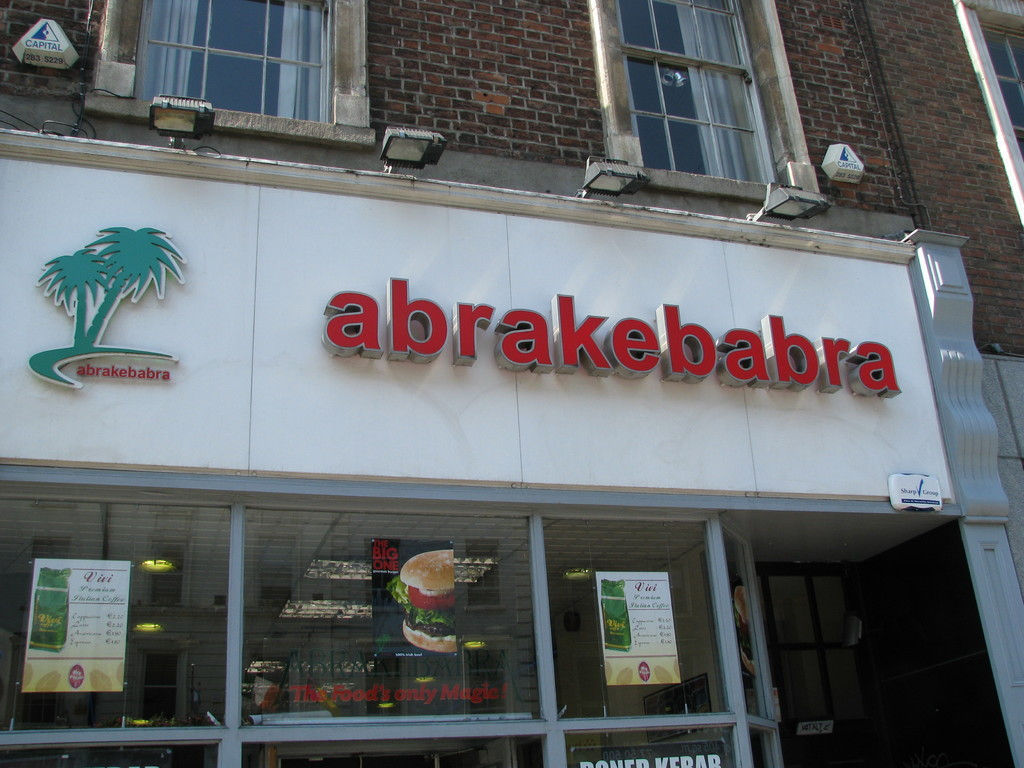Hamburger: (387, 552, 455, 656)
